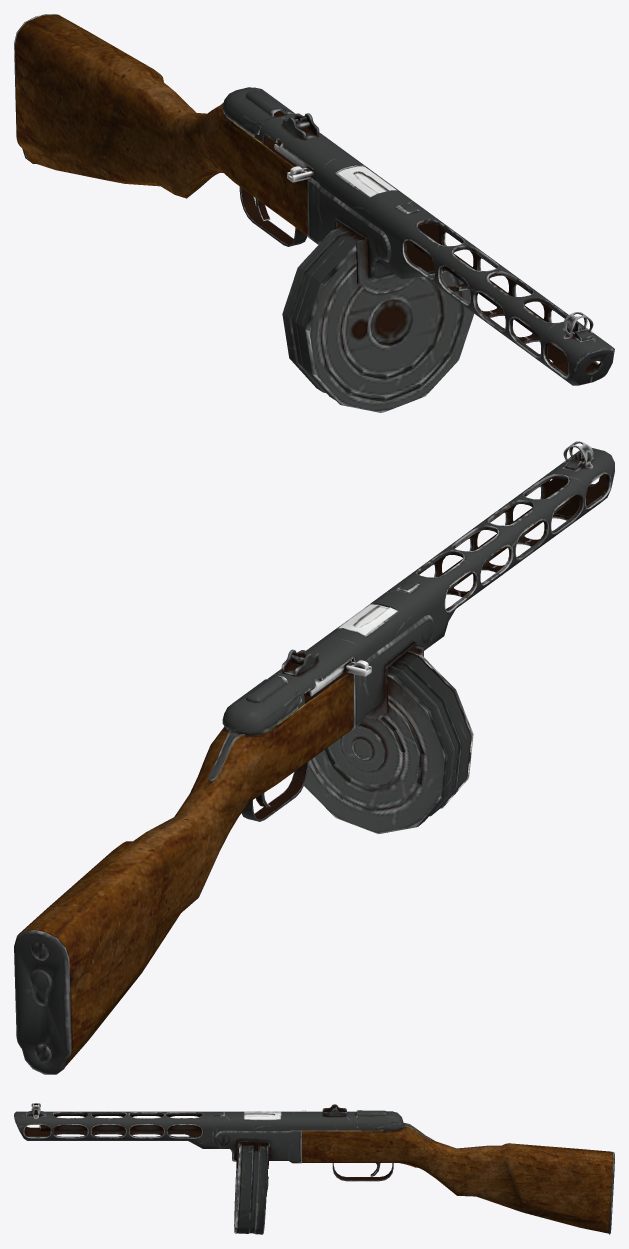
The model's file is 50式冲锋枪.FBX.
3 views of the same model, one above another, from view 1: azimuth 30°, elevation 25°; view 2: azimuth 150°, elevation 25°; view 3: azimuth 270°, elevation 25° (orthographic). The views are drawn at different scales.
Visible parts, largest first — view 1: 50式冲锋枪; view 2: 50式冲锋枪; view 3: 50式冲锋枪.
Part boxes in pixels (x1,y1,x2,y2): 50式冲锋枪: (14,14,614,412); 50式冲锋枪: (14,441,614,1074); 50式冲锋枪: (14,1103,614,1234).
Size of the model in its own units: 0.1581 by 0.2164 by 0.9141.
